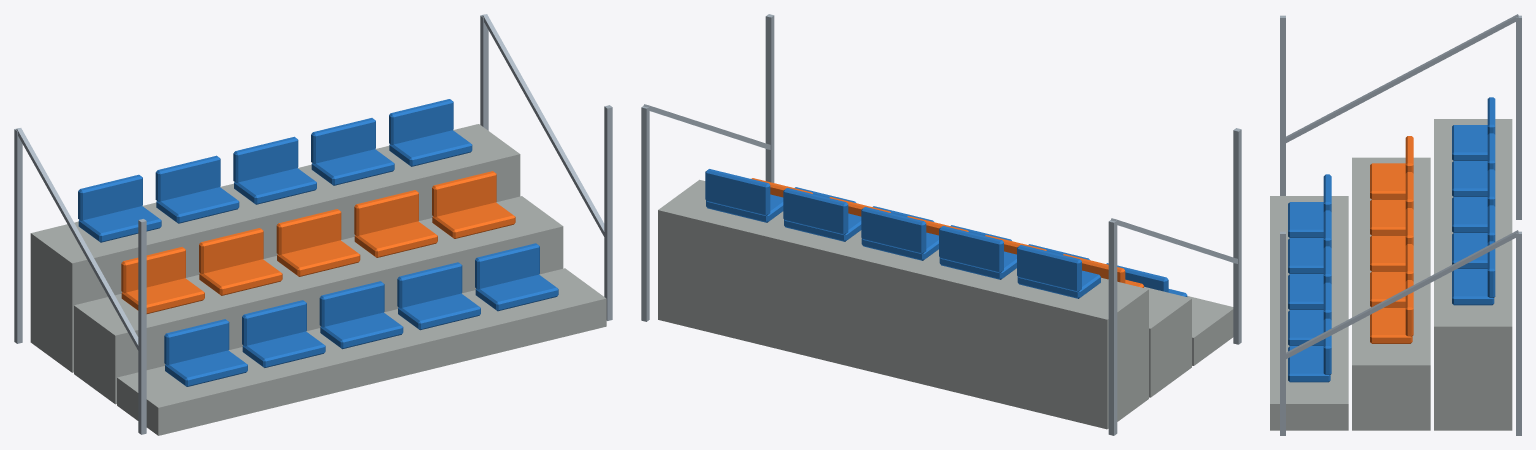
File: grandstand_small.glb
The picture shows the model from 3 angles, left to right: view 1: azimuth 30°, elevation 25°; view 2: azimuth 150°, elevation 25°; view 3: azimuth 270°, elevation 25°; orthographic projection. The views are drawn at different scales.
Visible parts, largest first — view 1: grandstand_small__static; view 2: grandstand_small__static; view 3: grandstand_small__static.
Boxes of the visible parts, bbox=[...] form: grandstand_small__static: bbox=[14, 14, 612, 435]; grandstand_small__static: bbox=[641, 14, 1241, 435]; grandstand_small__static: bbox=[1270, 14, 1521, 435].
Size of the model in its own units: 7.89 by 3.43 by 3.84.
